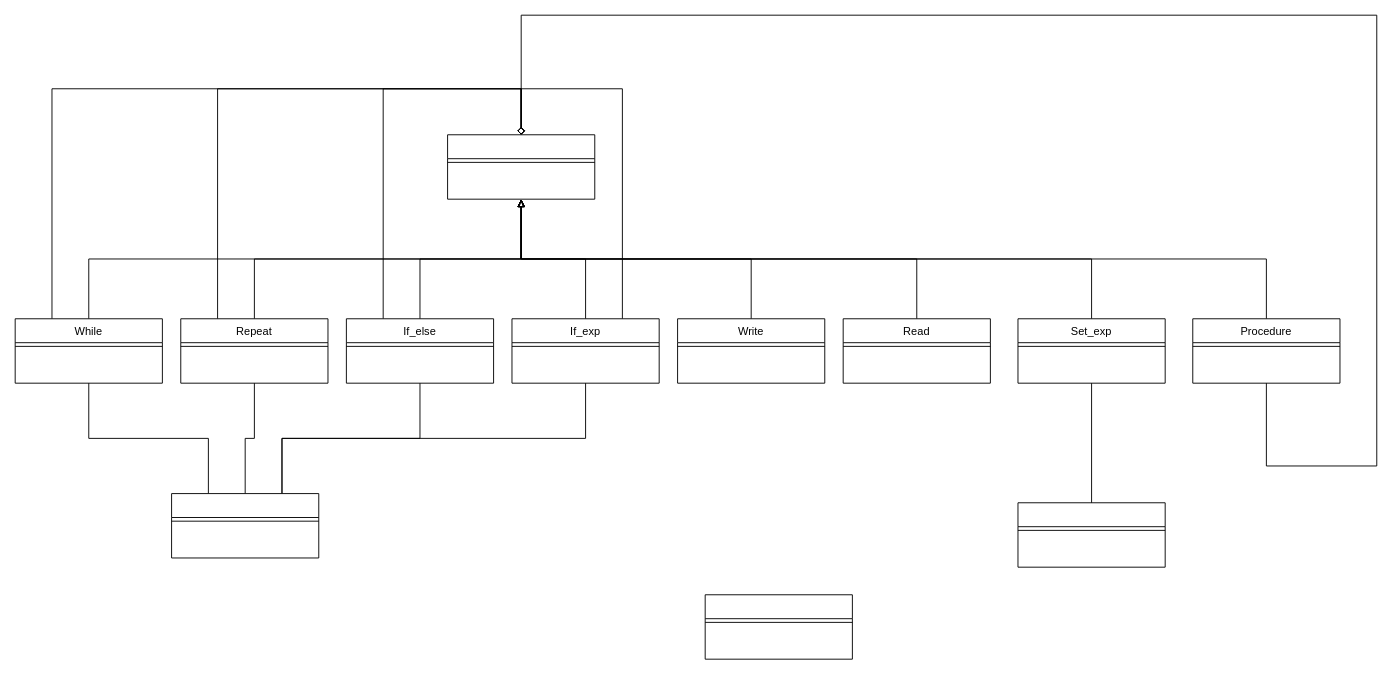
This 1392x674 diagram has some shape labels left out. The shapes that lost their labels are listed below. From the top down, each one's centre as x and y in pixels, then its label:
[521,166]: Command
[245,525]: Condition
[1091,534]: Expression
[778,626]: Variable
